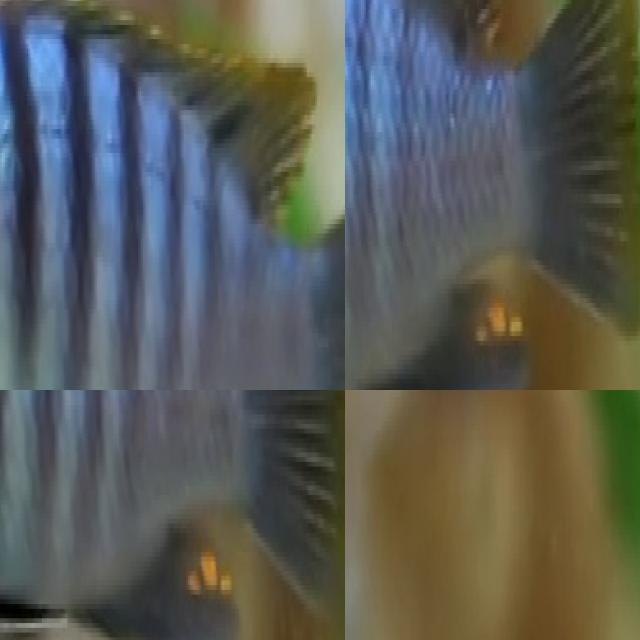fish: (0, 0, 345, 390), (0, 390, 345, 640)
